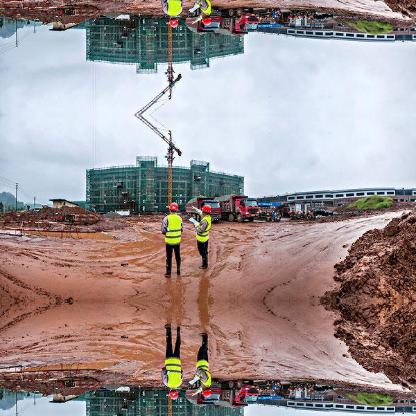Safety Helmet: (197, 13, 217, 30), (165, 384, 182, 404), (165, 12, 182, 30), (200, 203, 214, 220), (200, 384, 215, 399), (166, 201, 178, 217)
